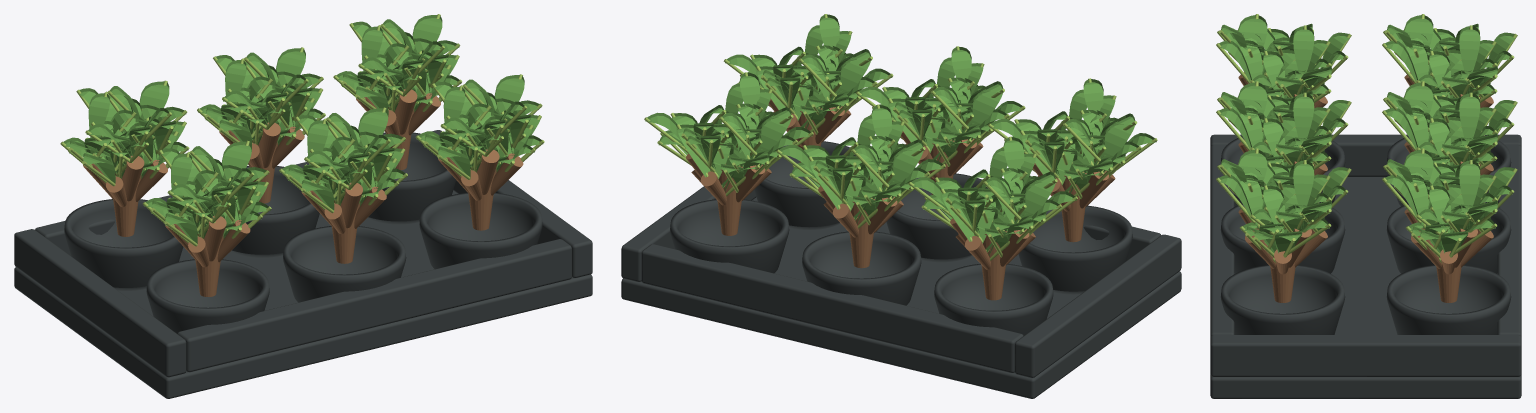
File: tea-garden-and-processing-house-tea-garden-and-process-b3851ca8__30753.glb
The picture shows the model from 3 angles, left to right: view 1: azimuth 30°, elevation 25°; view 2: azimuth 150°, elevation 25°; view 3: azimuth 270°, elevation 25°; orthographic projection. The views are drawn at different scales.
Visible parts, largest first — view 1: tea-garden-and-processing-house-nursery-cutting-tray; view 2: tea-garden-and-processing-house-nursery-cutting-tray; view 3: tea-garden-and-processing-house-nursery-cutting-tray.
Part boxes in pixels (bbox=[...]): tea-garden-and-processing-house-nursery-cutting-tray: bbox=[14, 14, 592, 398]; tea-garden-and-processing-house-nursery-cutting-tray: bbox=[621, 14, 1181, 398]; tea-garden-and-processing-house-nursery-cutting-tray: bbox=[1210, 14, 1521, 398].
Size of the model in its own units: 0.72 by 0.3264 by 0.45.
